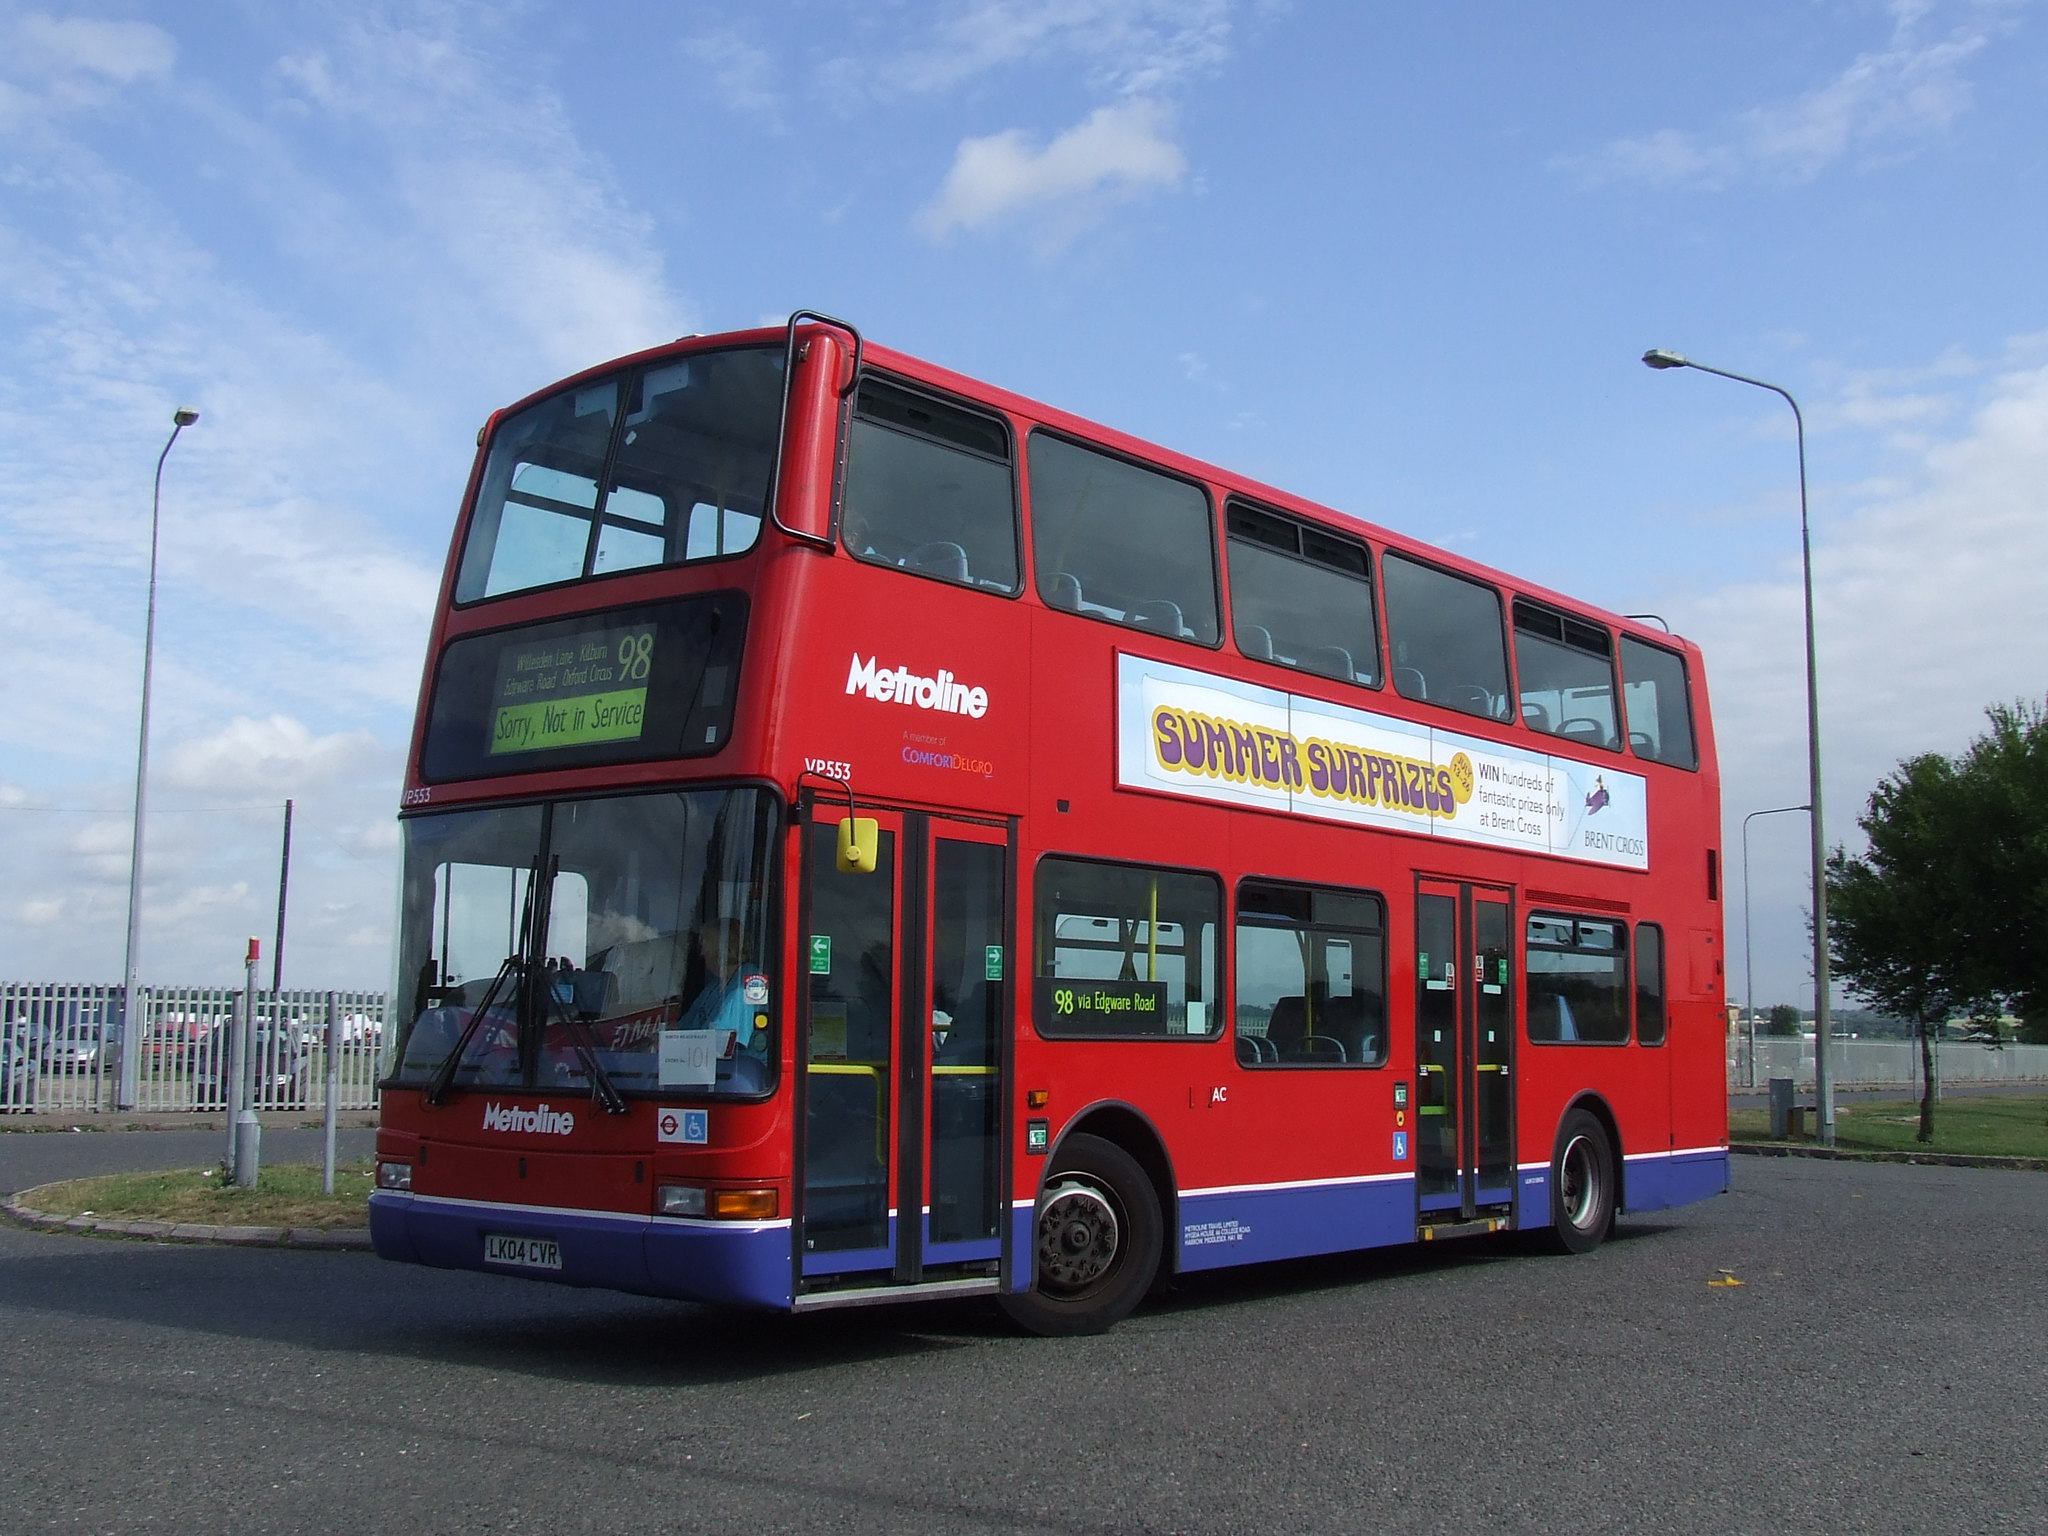bus: (364, 315, 1775, 1309)
